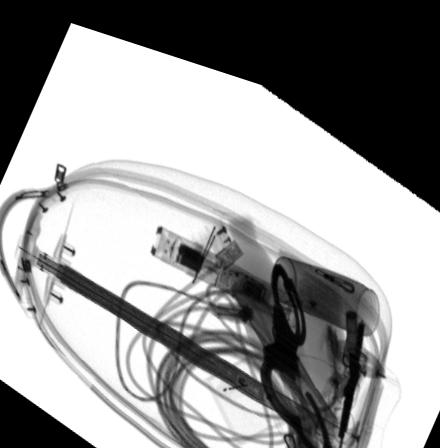Baton: (150, 212, 296, 308)
Bullet: (344, 288, 362, 377)
Gun: (332, 300, 366, 448)
HandCuffs: (257, 244, 332, 441)
